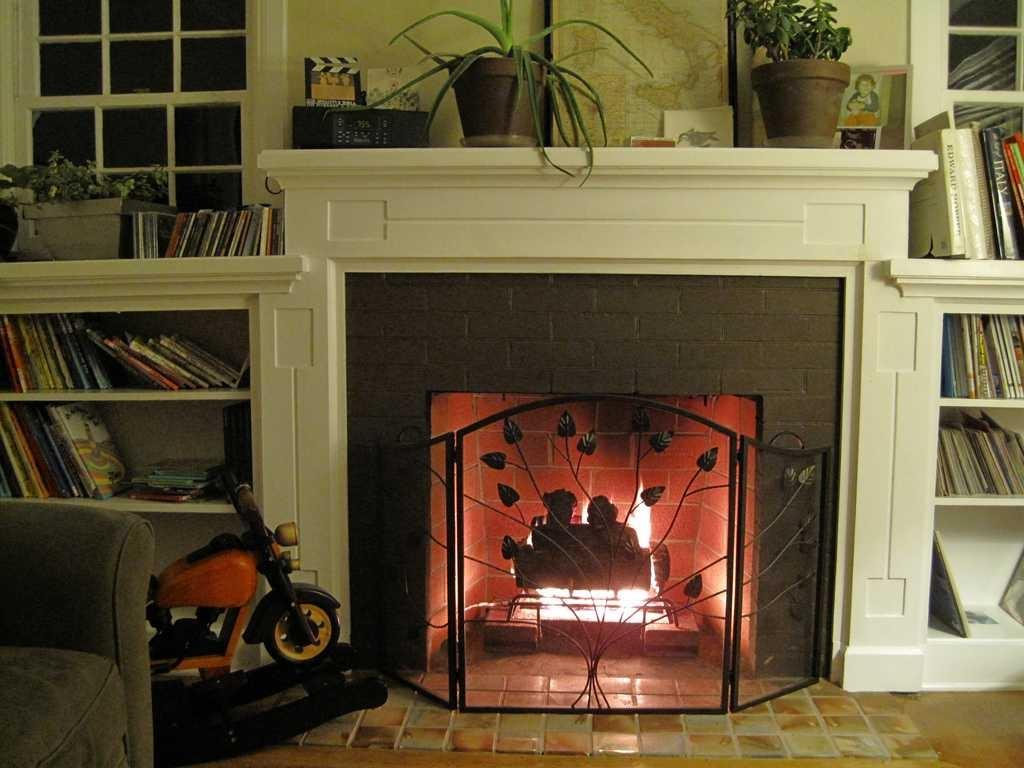fire: (534, 582, 672, 626), (622, 502, 656, 562)
